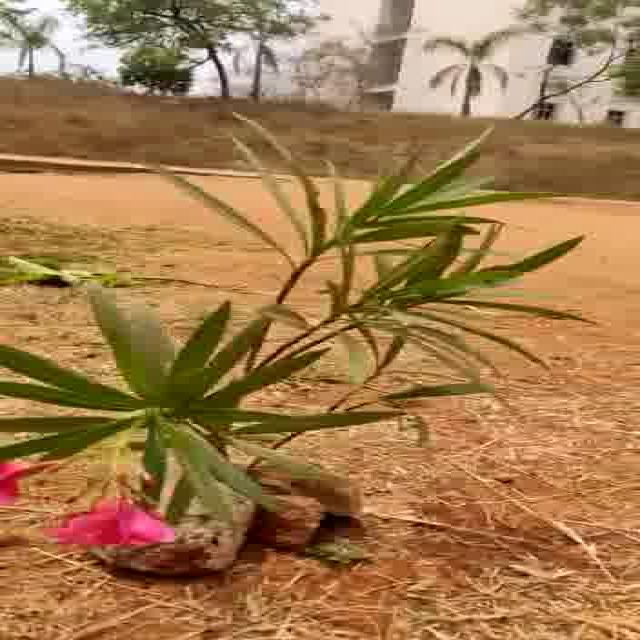OLEANDER: (4, 108, 579, 572)
